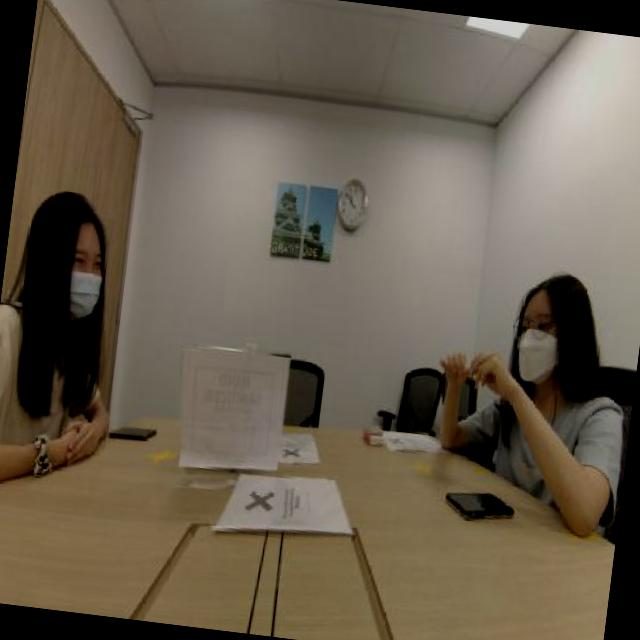Person: (452, 212, 624, 485), (6, 172, 125, 460)
